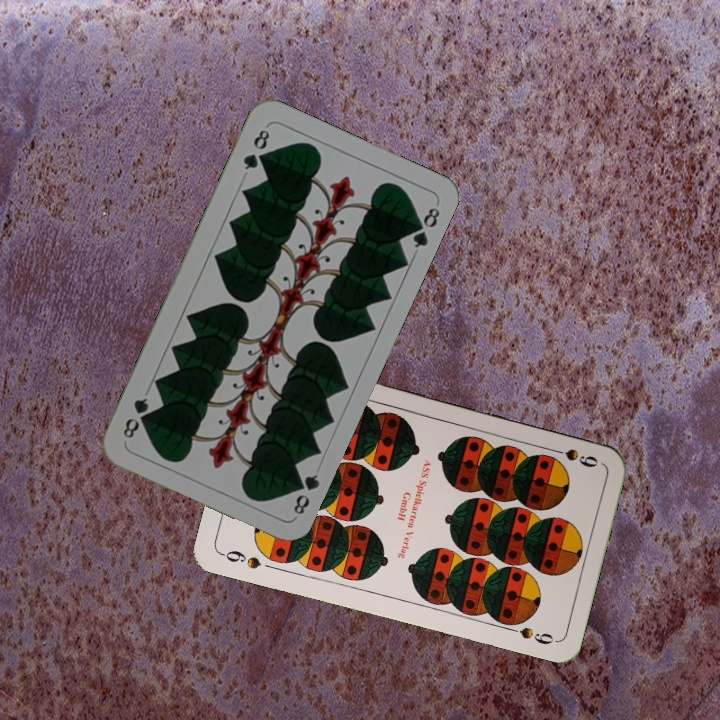G8: (238, 122, 273, 173), (289, 470, 322, 518)
S9: (544, 443, 601, 470), (217, 546, 264, 572)
